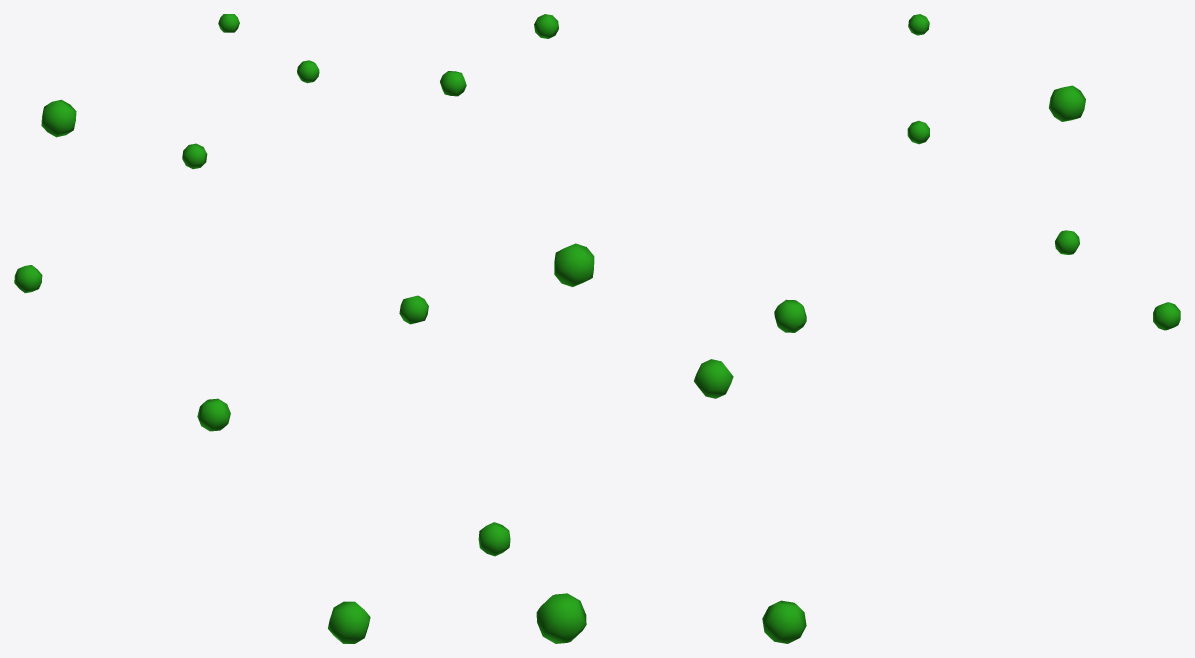
File: OrnamentBallTreeGreenFbx.FBX
The picture shows the model from 3 angles, left to right: view 1: azimuth 30°, elevation 25°; view 2: azimuth 150°, elevation 25°; view 3: azimuth 270°, elevation 25°; orthographic projection. The views are drawn at different scales.
Parts seen in each view (by area): view 1: Bolinhas4; view 2: Bolinhas4; view 3: Bolinhas4.
Boxes of the visible parts, <box> form: Bolinhas4: <box>14,14,370,643</box>; Bolinhas4: <box>399,14,733,643</box>; Bolinhas4: <box>762,14,1180,643</box>.
Size of the model in its own units: 52.39 by 92.82 by 147.
